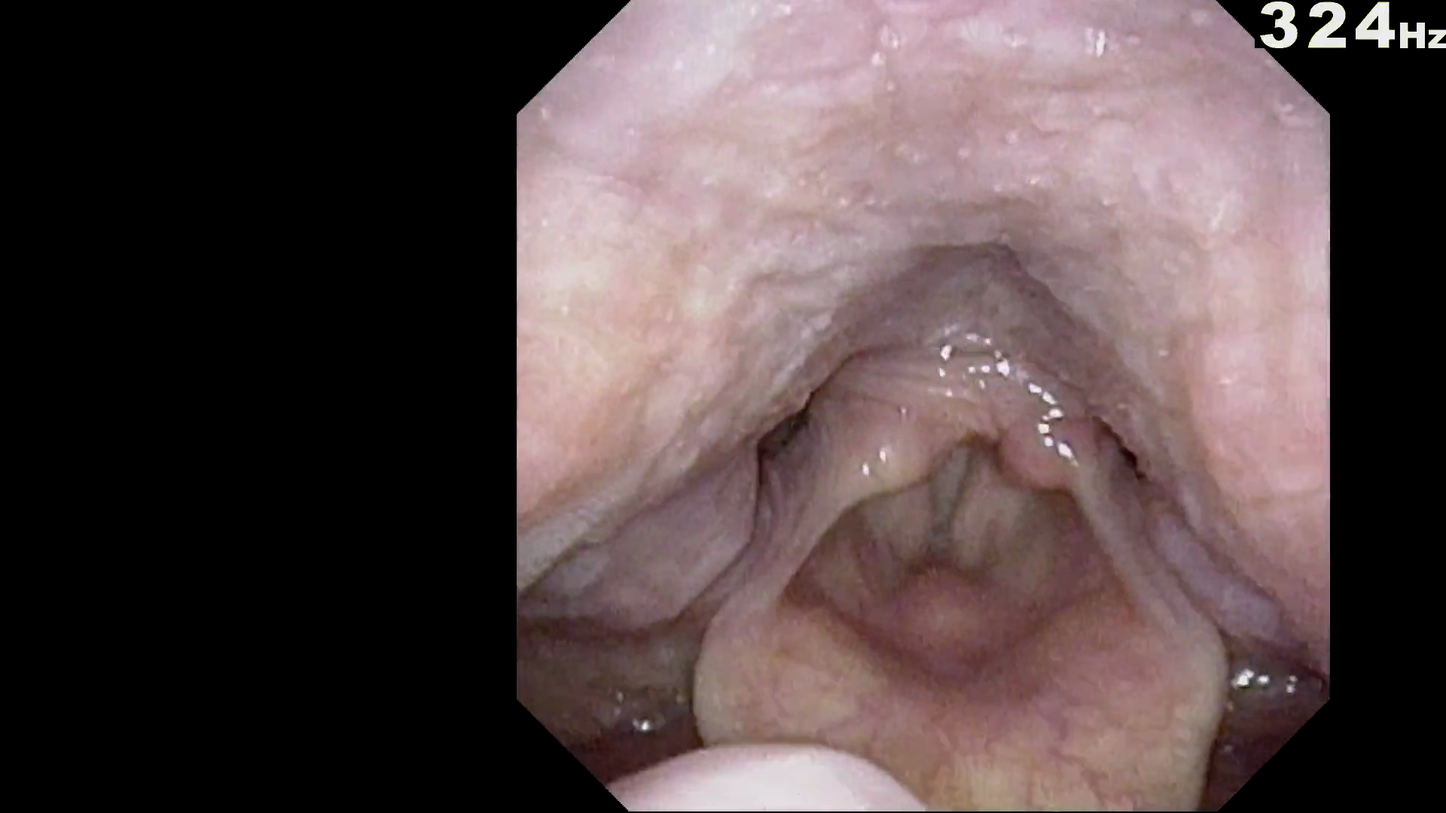epiglottis: (718, 641, 1204, 794)
trachea: (913, 477, 1036, 612)
